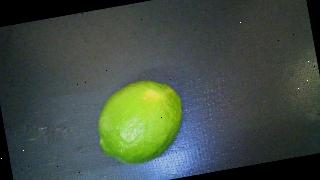EXPORTACION: (91, 75, 190, 169)
